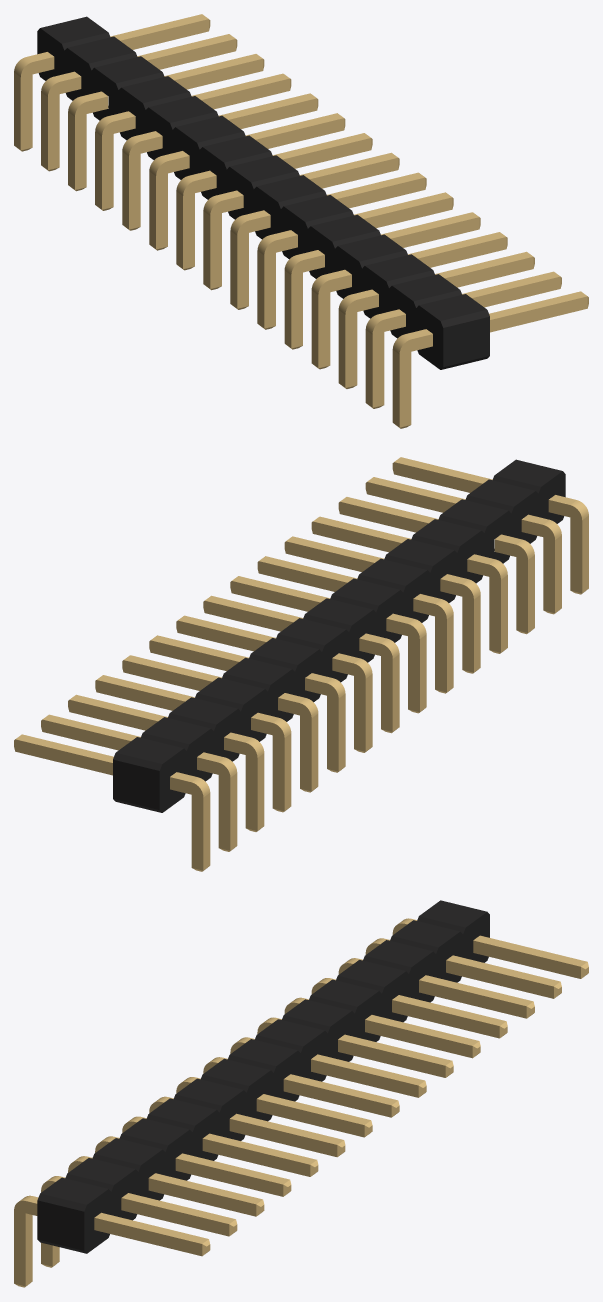
The model's file is kc-pinheader_1x15_p2.54mm_horizontal.glb.
3 views of the same model, one above another, from view 1: azimuth 30°, elevation 25°; view 2: azimuth 150°, elevation 25°; view 3: azimuth 330°, elevation 25° (orthographic).
Visible parts, largest first — view 1: 0.75_0.5_0.25_0.9, 0_0_0_0; view 2: 0.75_0.5_0.25_0.9, 0_0_0_0; view 3: 0.75_0.5_0.25_0.9, 0_0_0_0.
Part boxes in pixels (x1=…): 0.75_0.5_0.25_0.9: x1=14, y1=14, x2=588, y2=428; 0_0_0_0: x1=37, y1=16, x2=489, y2=369; 0.75_0.5_0.25_0.9: x1=14, y1=457, x2=588, y2=871; 0_0_0_0: x1=113, y1=459, x2=565, y2=812; 0.75_0.5_0.25_0.9: x1=14, y1=918, x2=588, y2=1287; 0_0_0_0: x1=37, y1=900, x2=489, y2=1253.
Size of the model in its own units: 1.04 by 0.554 by 3.81.
